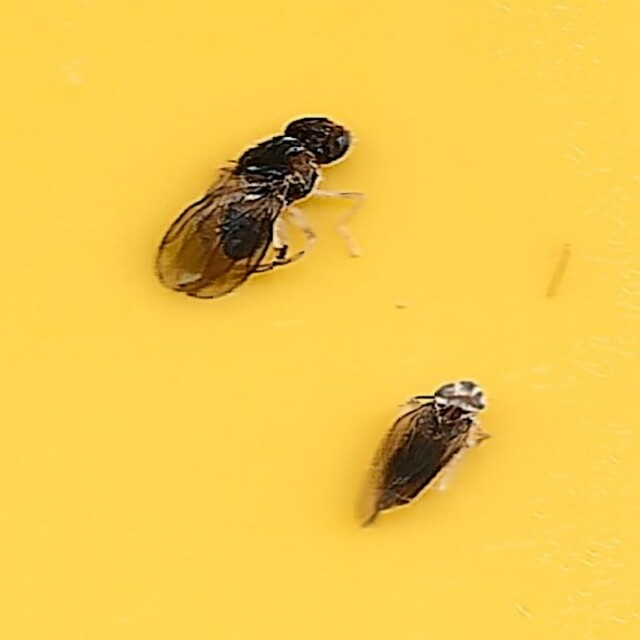Brachycera: (150, 112, 358, 301)
Hemiptera: (348, 377, 490, 528)
